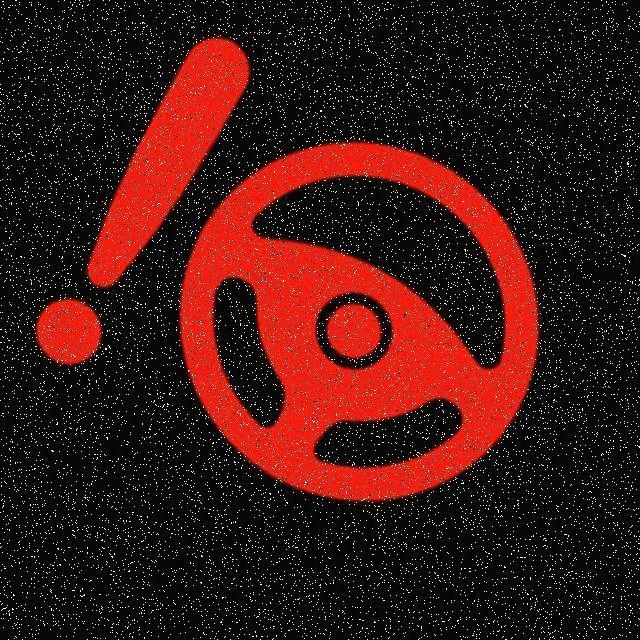Electronic Power Steering: (13, 16, 610, 582)
